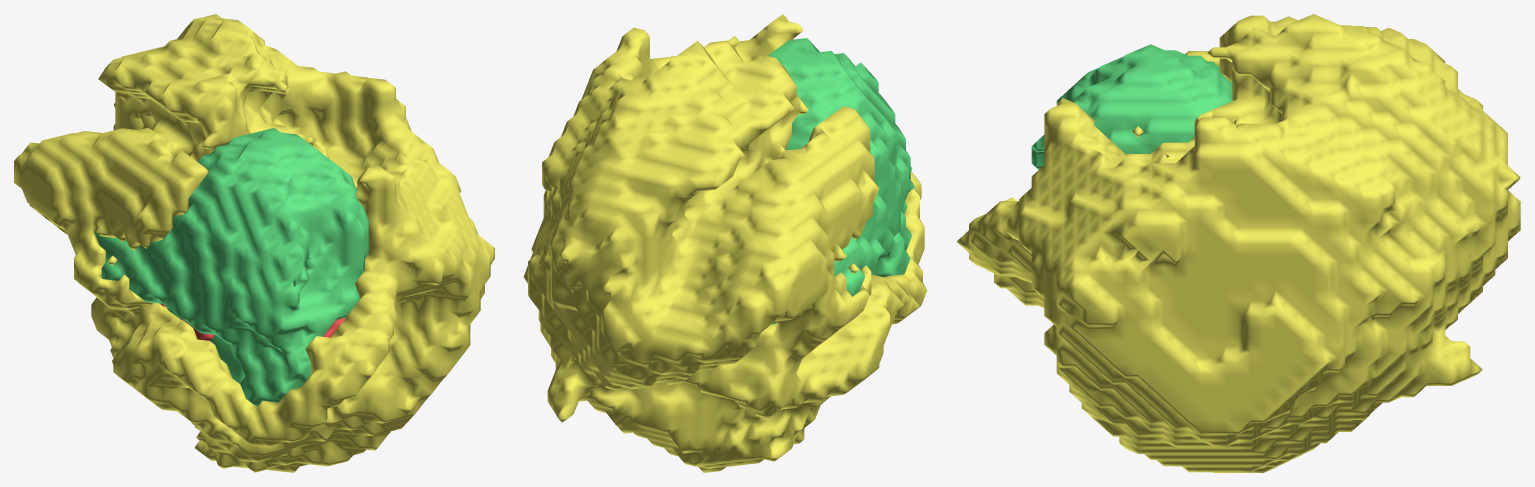
File: tumor_mesh.glb
The picture shows the model from 3 angles, left to right: view 1: azimuth 30°, elevation 25°; view 2: azimuth 150°, elevation 25°; view 3: azimuth 270°, elevation 25°; orthographic projection. The views are drawn at different scales.
Parts seen in each view (by area): view 1: edema, enhancing; view 2: edema, enhancing; view 3: edema, enhancing.
Part boxes in pixels (<box>): edema: <box>14,14,494,472</box>; enhancing: <box>94,128,368,406</box>; edema: <box>523,14,927,472</box>; enhancing: <box>768,38,914,324</box>; edema: <box>956,14,1520,472</box>; enhancing: <box>1031,44,1232,169</box>.
Size of the model in its own units: 30 by 39 by 45.
